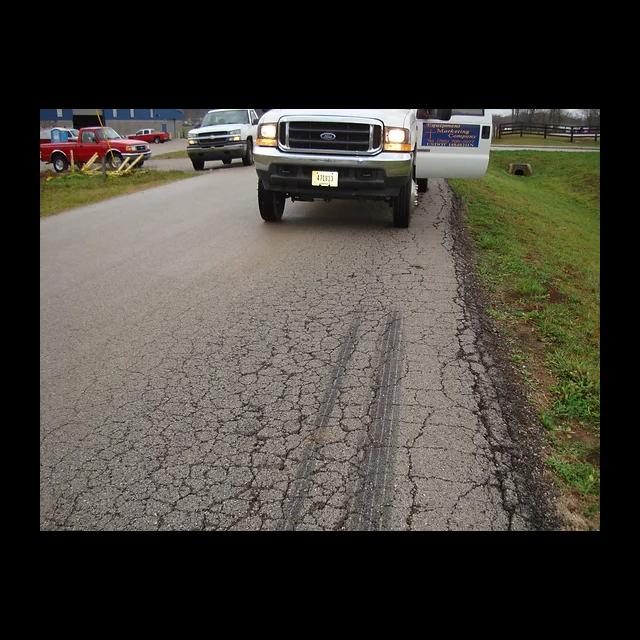retak_kulit_buaya: (59, 356, 422, 531), (214, 236, 418, 367)
